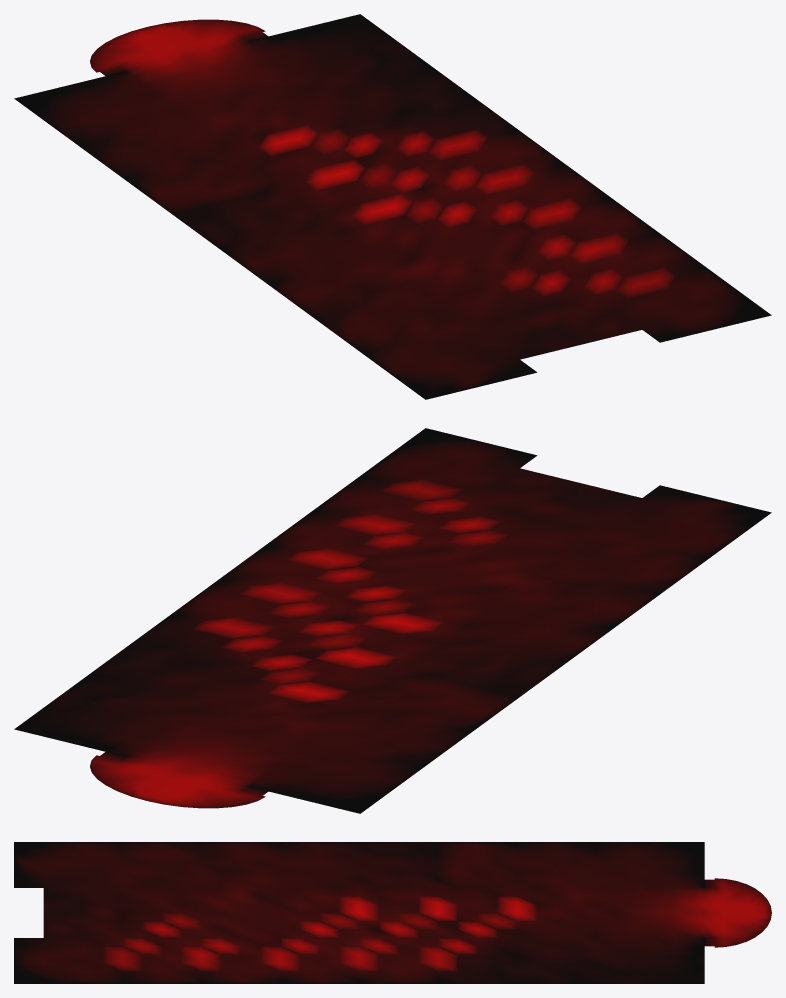
The model's file is Floor_1_export.obj.
The picture shows the model from 3 angles, top to bottom: view 1: azimuth 30°, elevation 25°; view 2: azimuth 150°, elevation 25°; view 3: azimuth 270°, elevation 25°; orthographic projection. The views are drawn at different scales.
Visible parts, largest first — view 1: Floor_1; view 2: Floor_1; view 3: Floor_1.
Boxes of the visible parts, x1,y1,x2,y2 form: Floor_1: [14, 14, 771, 399]; Floor_1: [14, 428, 771, 813]; Floor_1: [14, 842, 771, 983].
Size of the model in its own units: 17 by 0 by 38.41.
